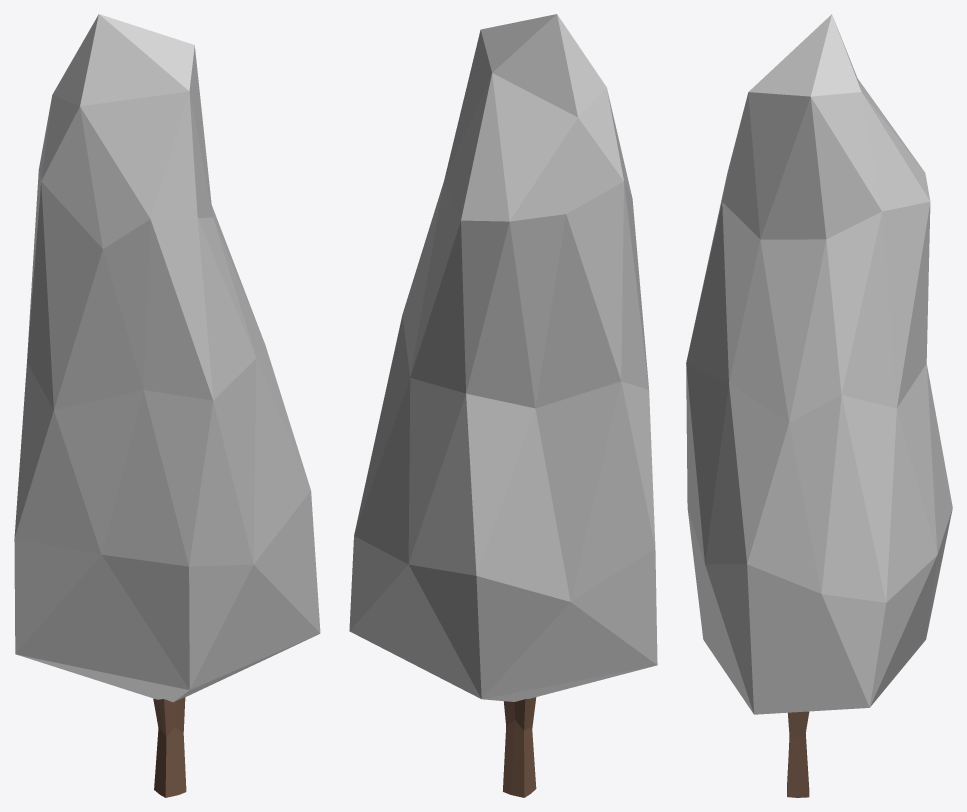
The model's file is Tree_4_White.fbx.
3 views of the same model, side by side, from view 1: azimuth 30°, elevation 25°; view 2: azimuth 150°, elevation 25°; view 3: azimuth 270°, elevation 25° (orthographic). The views are drawn at different scales.
Parts seen in each view (by area): view 1: Tree_4_White_Part_1, Tree_4_White_Part_2; view 2: Tree_4_White_Part_1, Tree_4_White_Part_2; view 3: Tree_4_White_Part_1, Tree_4_White_Part_2.
Part boxes in pixels (<box>): Tree_4_White_Part_1: <box>14,14,320,702</box>; Tree_4_White_Part_2: <box>153,697,186,797</box>; Tree_4_White_Part_1: <box>349,14,657,701</box>; Tree_4_White_Part_2: <box>503,697,536,797</box>; Tree_4_White_Part_1: <box>686,14,952,714</box>; Tree_4_White_Part_2: <box>787,711,809,797</box>.
Bounding box in the file's own units: 295 × 795 × 254.
